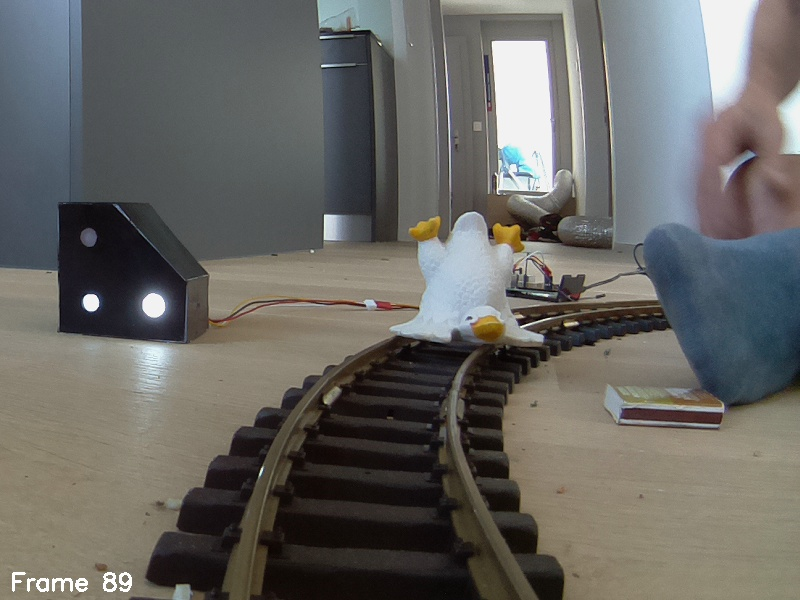Ente: (389, 207, 551, 357)
Halt: (56, 202, 212, 343)
